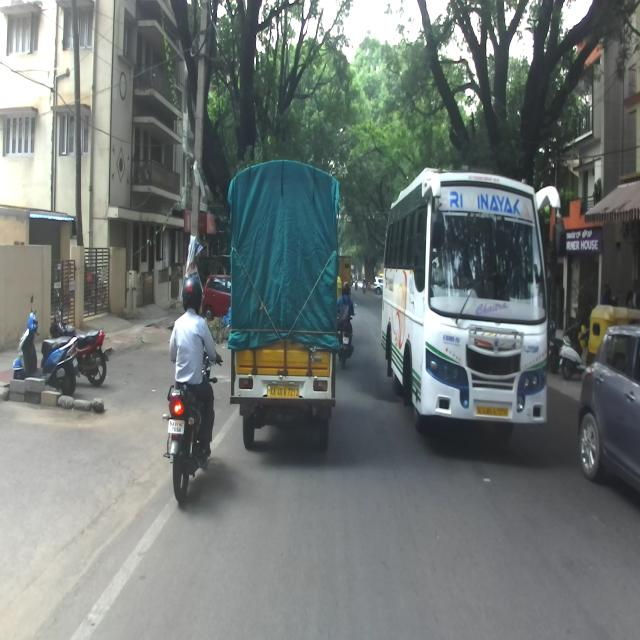bus ahead at: (381, 171, 561, 440)
motorcycle ahead at: (164, 374, 216, 504), (14, 307, 80, 382)
truck ahead at: (228, 163, 340, 440)
